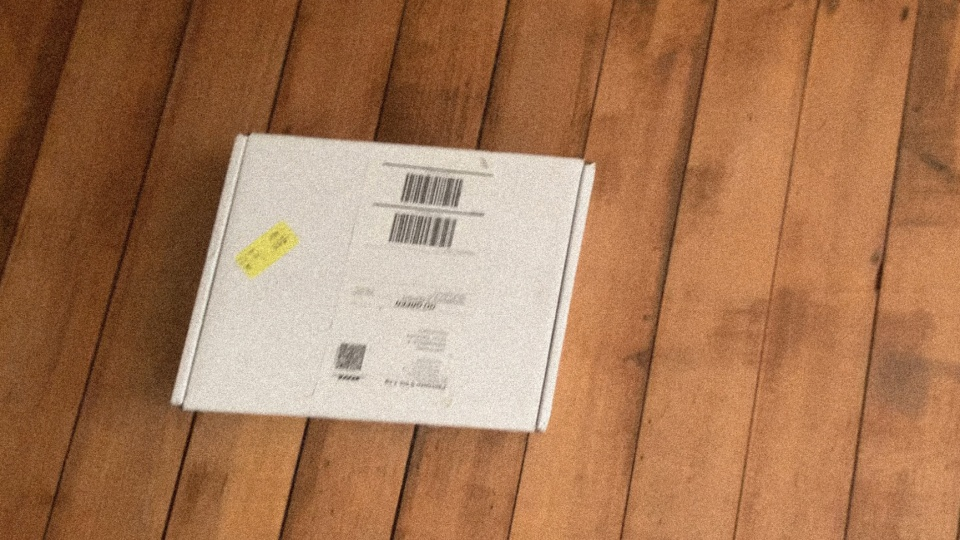good-parcel: (169, 124, 602, 440)
